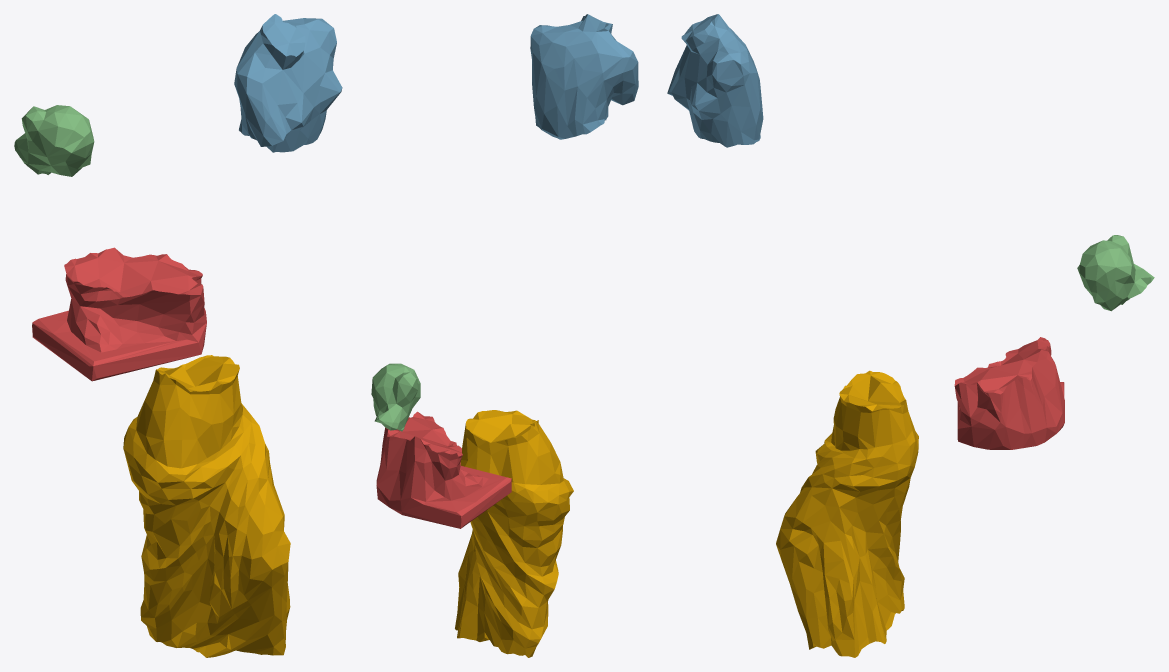
Rendered from mode_3_4pcs_transformed.glb.
3 views of the same model, side by side, from view 1: azimuth 30°, elevation 25°; view 2: azimuth 150°, elevation 25°; view 3: azimuth 270°, elevation 25° (orthographic). The views are drawn at different scales.
Parts seen in each view (by area): view 1: piece_0.obj, piece_1.obj, piece_2.obj, piece_3.obj; view 2: piece_0.obj, piece_2.obj, piece_1.obj, piece_3.obj; view 3: piece_0.obj, piece_1.obj, piece_2.obj, piece_3.obj.
Part boxes in pixels (bbox=[...]): piece_0.obj: bbox=[123, 355, 290, 657]; piece_1.obj: bbox=[32, 247, 206, 381]; piece_2.obj: bbox=[234, 14, 342, 152]; piece_3.obj: bbox=[14, 105, 94, 176]; piece_0.obj: bbox=[455, 410, 573, 657]; piece_2.obj: bbox=[530, 14, 638, 139]; piece_1.obj: bbox=[376, 411, 511, 528]; piece_3.obj: bbox=[371, 363, 420, 431]; piece_0.obj: bbox=[776, 370, 918, 657]; piece_1.obj: bbox=[954, 337, 1064, 449]; piece_2.obj: bbox=[667, 14, 763, 147]; piece_3.obj: bbox=[1077, 235, 1154, 311].
Size of the model in its own units: 0.2955 by 1.39 by 1.01.
